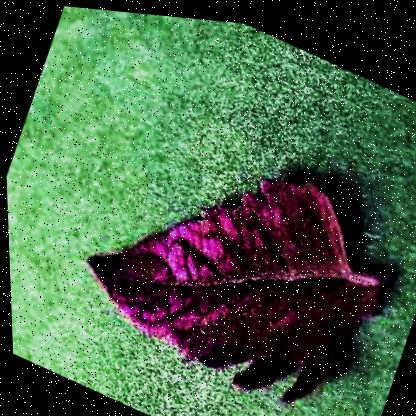Virus: (56, 79, 415, 415)
